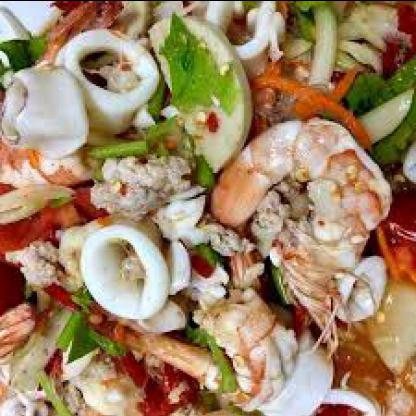Yum: (1, 1, 415, 414)
